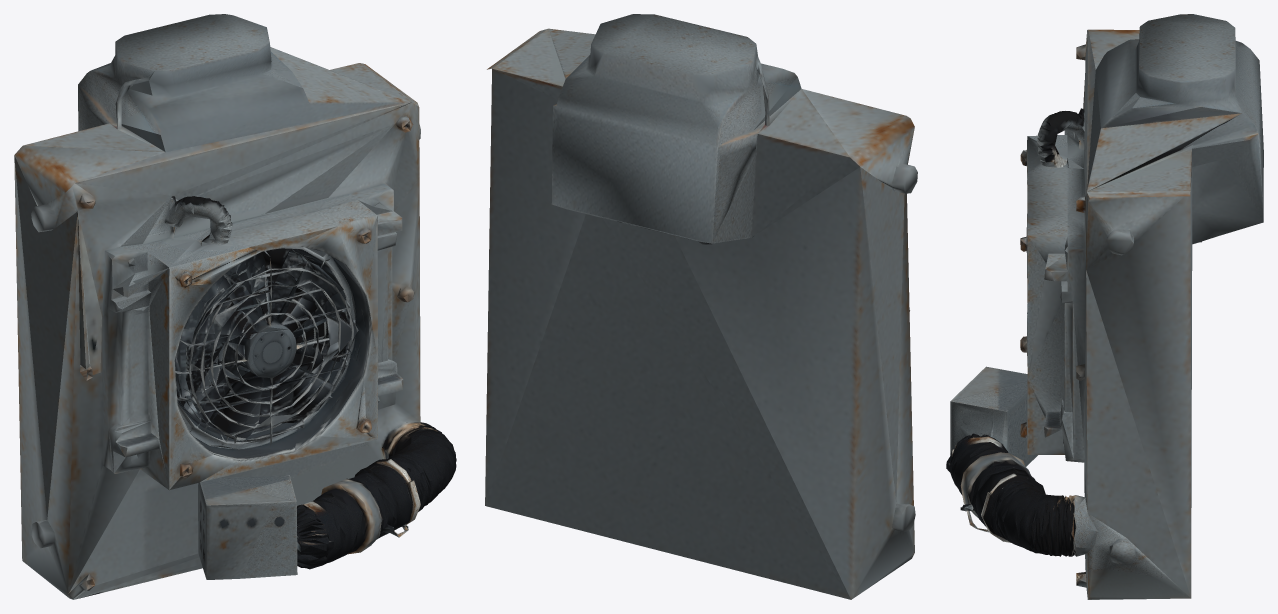
The model's file is Ventilation.fbx.
3 renders of one model, left to right at view 1: azimuth 30°, elevation 25°; view 2: azimuth 150°, elevation 25°; view 3: azimuth 270°, elevation 25°, orthographic. The views are drawn at different scales.
Visible parts, largest first — view 1: Mesh_0; view 2: Mesh_0; view 3: Mesh_0.
Boxes of the visible parts, x1,y1,x2,y2 form: Mesh_0: (14,14,456,599); Mesh_0: (485,14,917,599); Mesh_0: (946,14,1263,599).
Bounding box in the file's own units: 157 × 190 × 116.
Materials: 1 (1 with a texture image).
